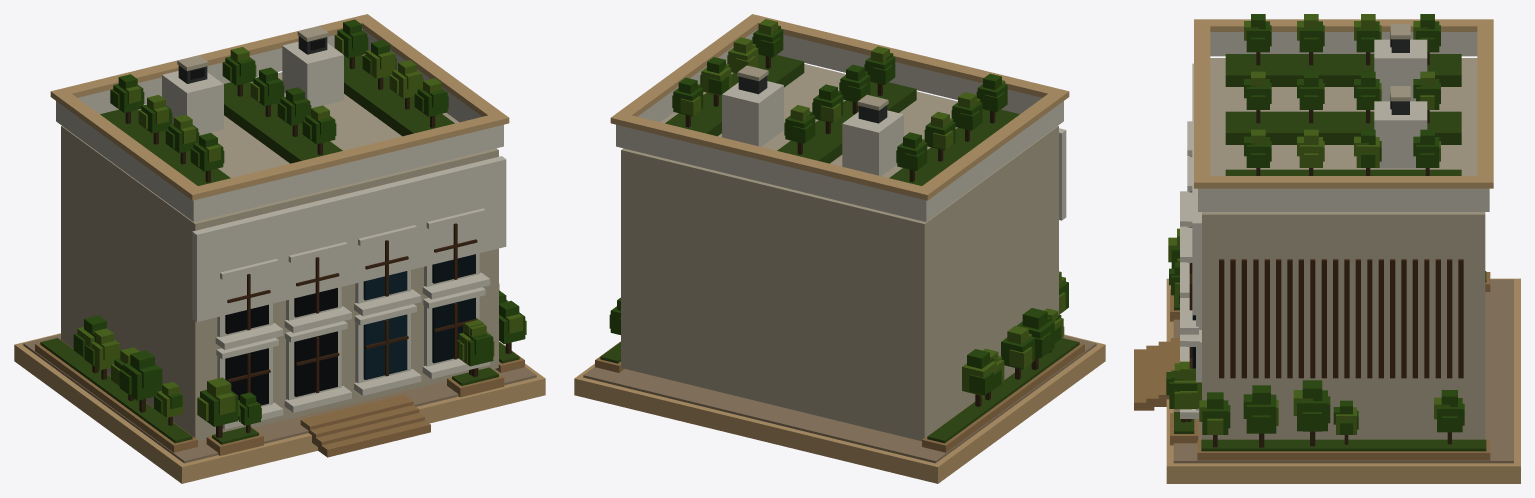
File: SM_Mapa_014.fbx
The picture shows the model from 3 angles, left to right: view 1: azimuth 30°, elevation 25°; view 2: azimuth 150°, elevation 25°; view 3: azimuth 270°, elevation 25°; orthographic projection. The views are drawn at different scales.
Visible parts, largest first — view 1: SM_Mapa_014; view 2: SM_Mapa_014; view 3: SM_Mapa_014.
Part boxes in pixels (x1,y1,x2,y2): SM_Mapa_014: [14, 14, 545, 483]; SM_Mapa_014: [574, 14, 1105, 483]; SM_Mapa_014: [1134, 14, 1520, 483].
Bounding box in the file's own units: 24 × 20.77 × 19.53.
